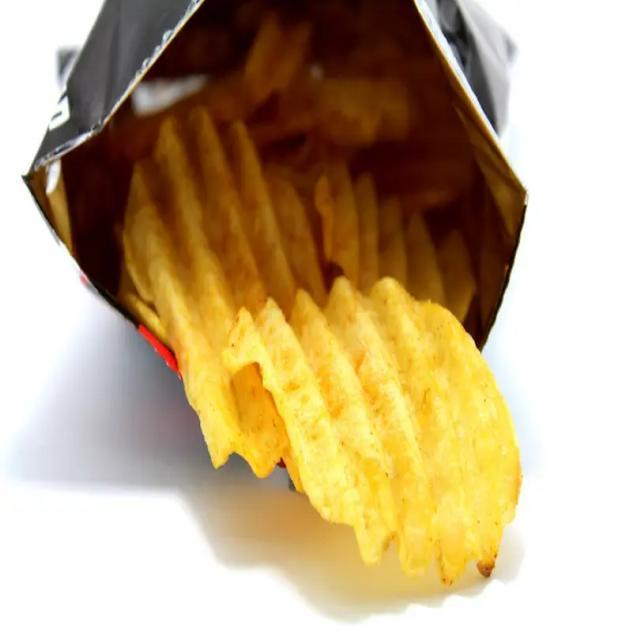Chips packaged: (236, 268, 527, 598)
